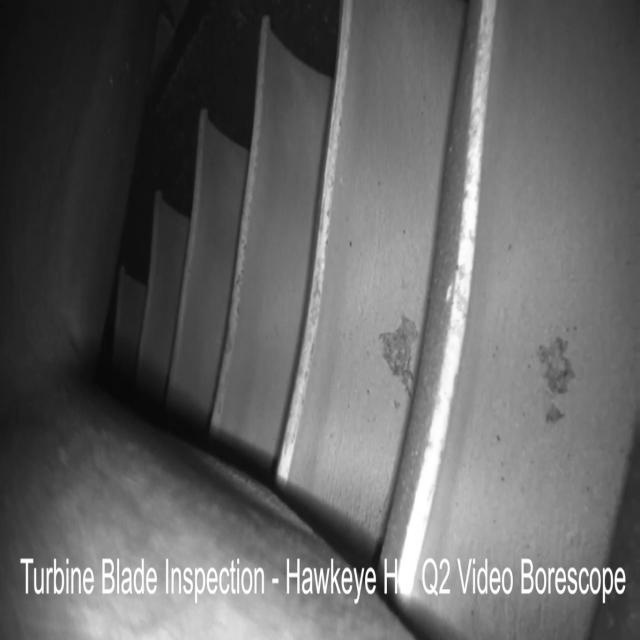burn: (376, 312, 421, 388), (536, 338, 578, 397)
turbine_blade: (411, 4, 640, 564), (284, 6, 470, 562), (208, 26, 331, 471)
